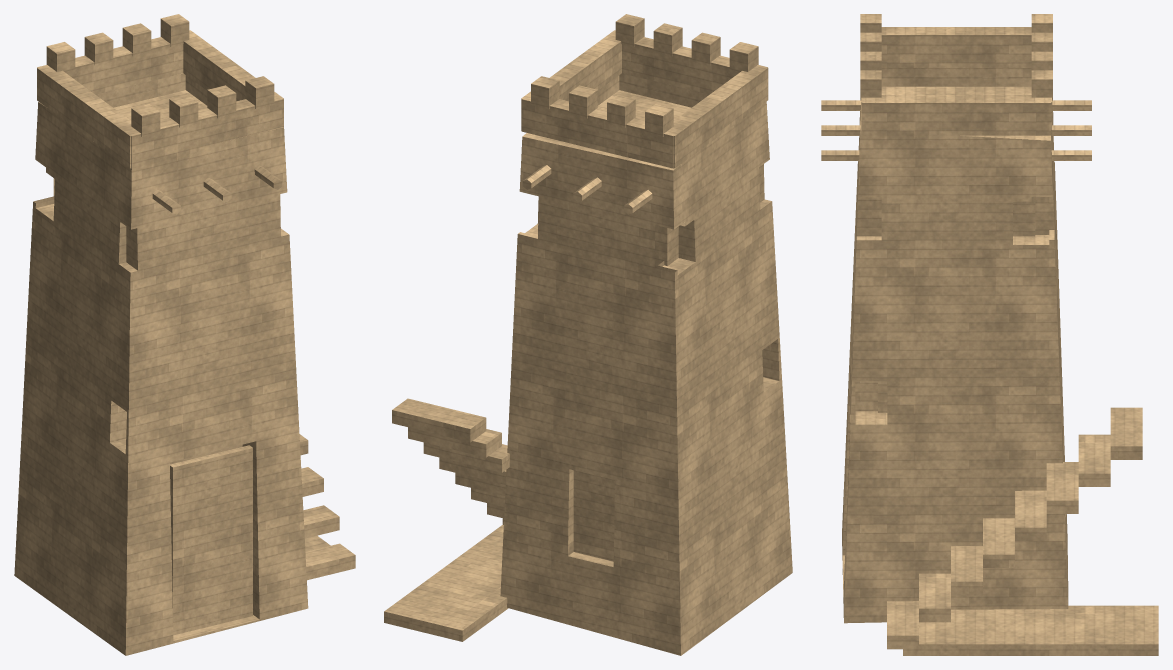
File: house-e.glb
3 renders of one model, left to right at view 1: azimuth 30°, elevation 25°; view 2: azimuth 150°, elevation 25°; view 3: azimuth 270°, elevation 25°, orthographic.
Parts seen in each view (by area): view 1: house-e; view 2: house-e; view 3: house-e.
Boxes of the visible parts, x1,y1,x2,y2 form: house-e: (14, 14, 355, 655); house-e: (384, 14, 792, 655); house-e: (821, 14, 1158, 655).
Bounding box in the file's own units: 2.76 × 5.54 × 3.17.
Materials: 1 (1 with a texture image).
